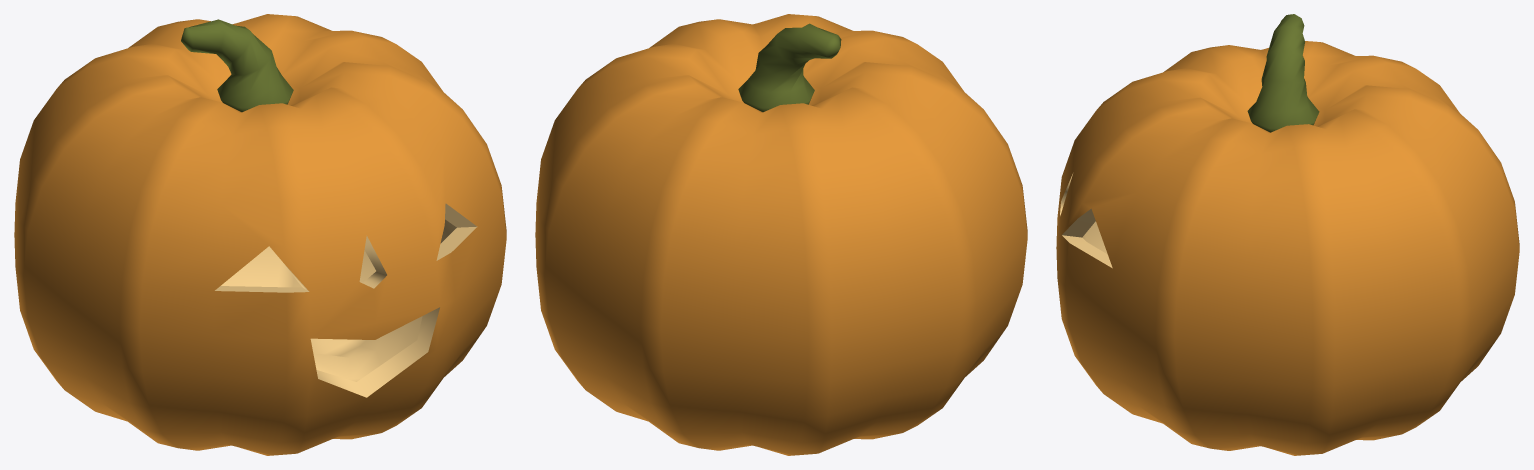
The model's file is Pumpkin_Lantern_1.fbx.
3 views of the same model, side by side, from view 1: azimuth 30°, elevation 25°; view 2: azimuth 150°, elevation 25°; view 3: azimuth 270°, elevation 25° (orthographic). The views are drawn at different scales.
Visible parts, largest first — view 1: Pumpkin_Lantern_1; view 2: Pumpkin_Lantern_1; view 3: Pumpkin_Lantern_1.
Part boxes in pixels (x1,y1,x2,y2): Pumpkin_Lantern_1: (14,14,506,455); Pumpkin_Lantern_1: (535,14,1027,455); Pumpkin_Lantern_1: (1056,14,1519,455).
Size of the model in its own units: 21.39 by 18.32 by 21.11.
